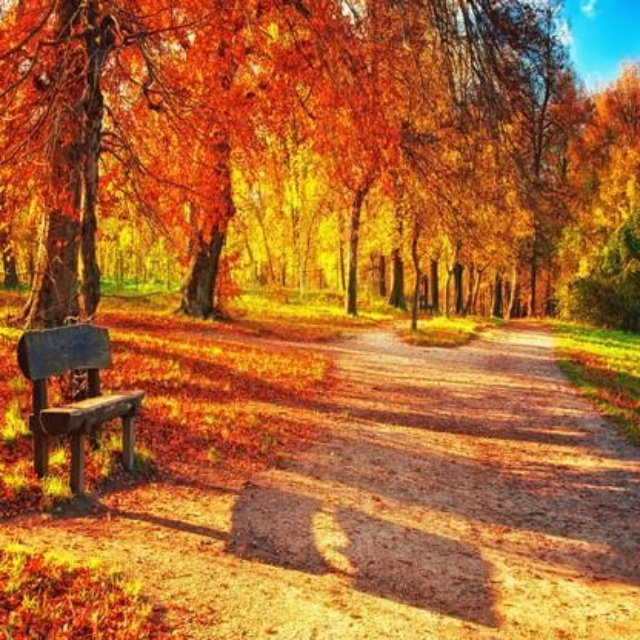obstacle: (5, 308, 162, 515)
